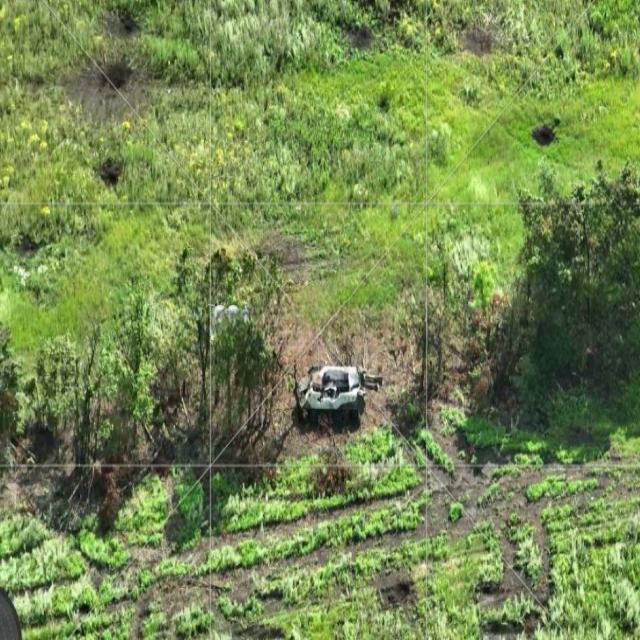APC: (295, 366, 365, 422)
